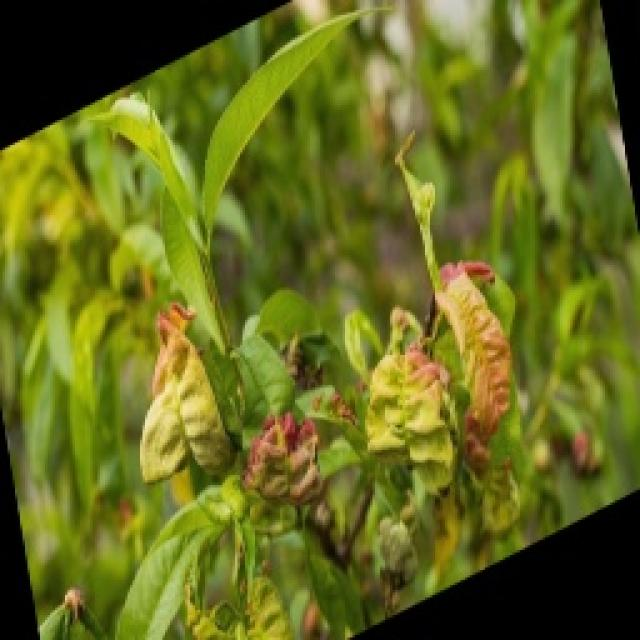peach_leaf_curl: (430, 258, 515, 472), (237, 408, 325, 508)
